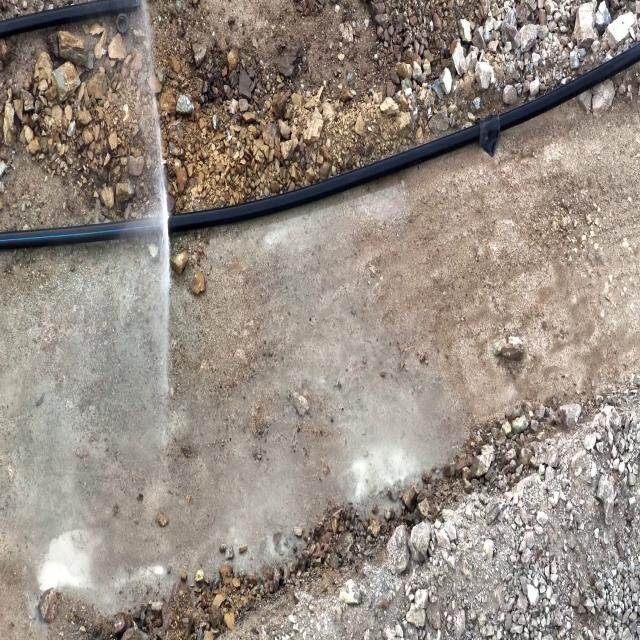leak: (133, 0, 175, 446)
